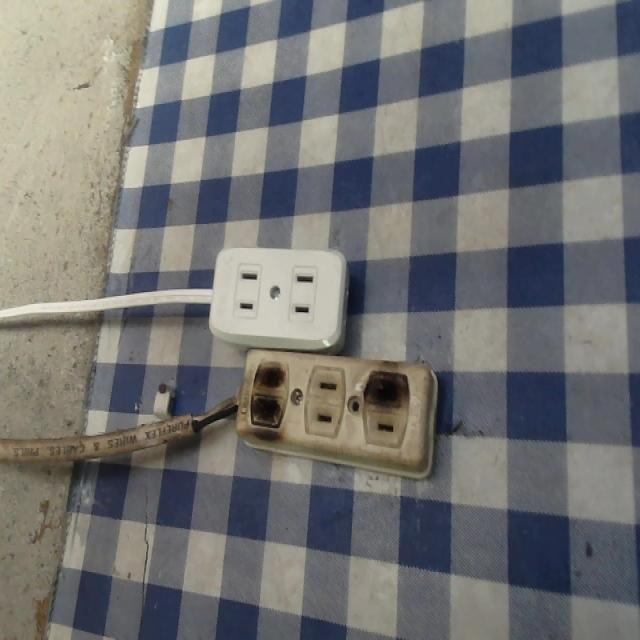-: (243, 355, 290, 437), (359, 364, 416, 412)
